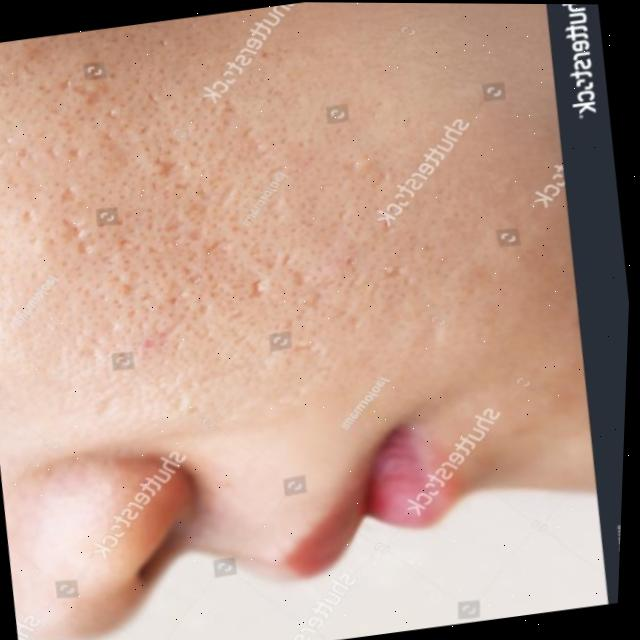Acne: (37, 93, 359, 367)
